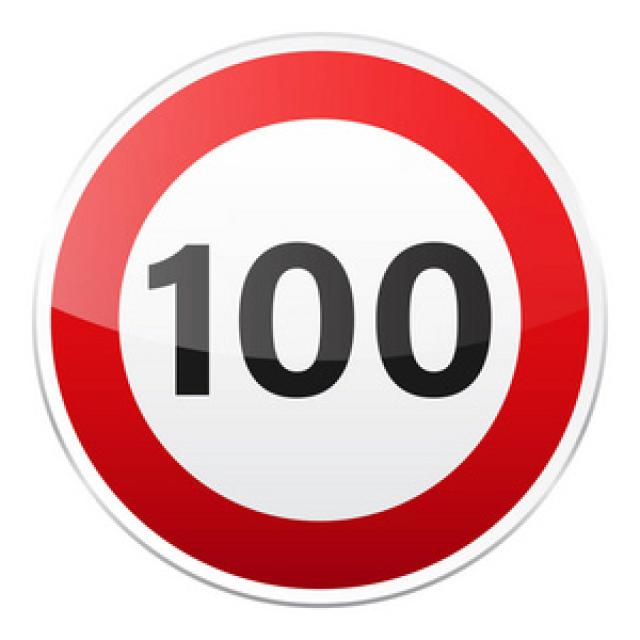speed limit 100: (32, 31, 608, 606)
